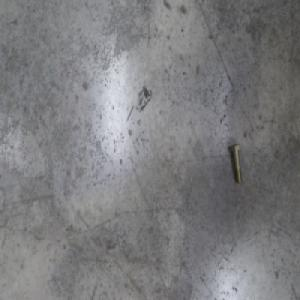Bolt: (229, 142, 243, 184)
